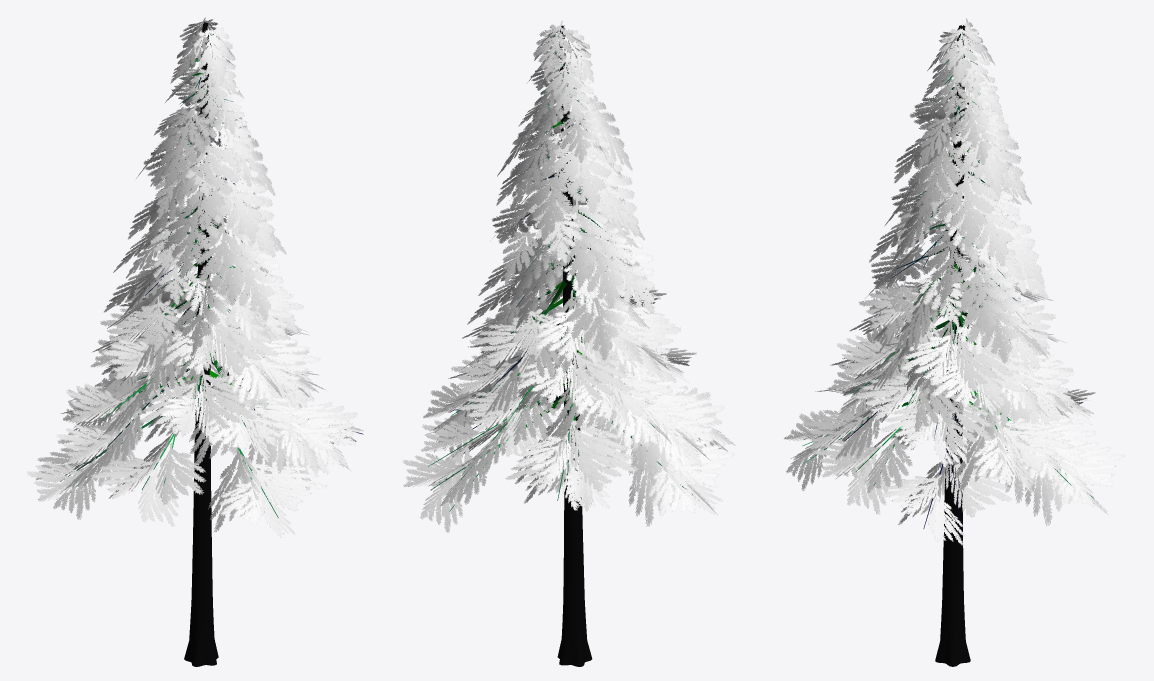
Rendered from Spruce_LOD0_P3310_B2930_L380_v04.fbx.
3 renders of one model, left to right at view 1: azimuth 30°, elevation 25°; view 2: azimuth 150°, elevation 25°; view 3: azimuth 270°, elevation 25°, orthographic.
Parts seen in each view (by area): view 1: leafcard_spruce_01_1, sprucebark_0; view 2: leafcard_spruce_01_1, sprucebark_0; view 3: leafcard_spruce_01_1, sprucebark_0.
Boxes of the visible parts, x1,y1,x2,y2 form: leafcard_spruce_01_1: [27, 17, 363, 537]; sprucebark_0: [60, 22, 363, 666]; leafcard_spruce_01_1: [402, 20, 735, 532]; sprucebark_0: [428, 25, 695, 666]; leafcard_spruce_01_1: [784, 18, 1124, 545]; sprucebark_0: [802, 25, 1093, 666].
Size of the model in its own units: 410 by 817 by 408.
